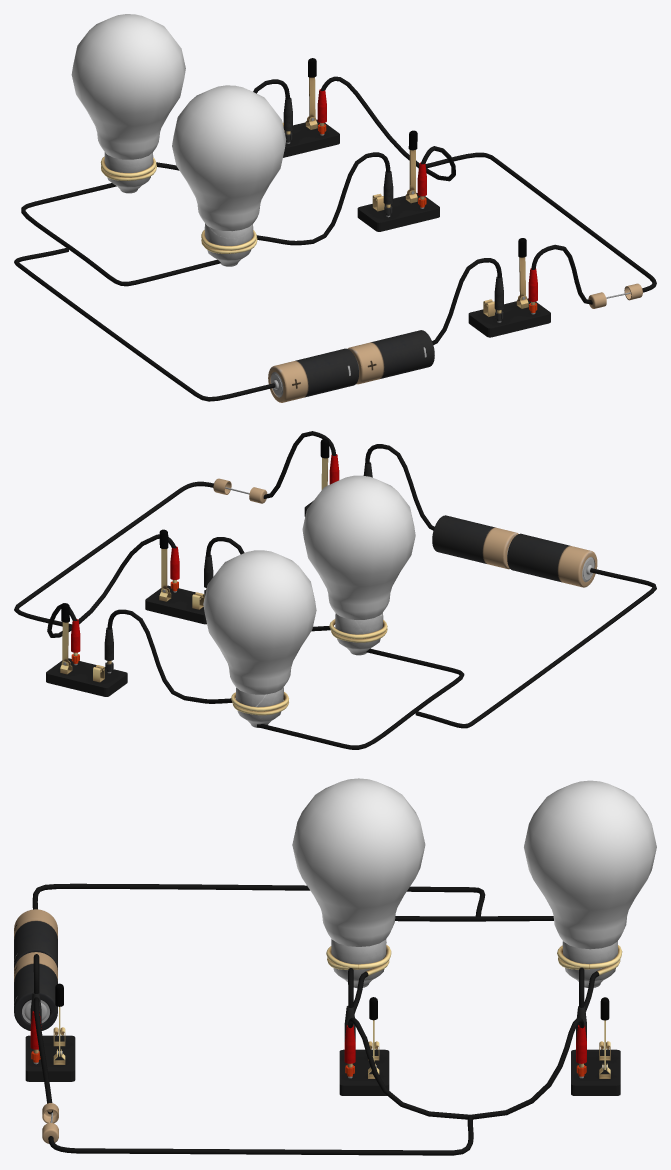
Rendered from Electric circuit fianl animation.fbx.
3 views of the same model, one above another, from view 1: azimuth 30°, elevation 25°; view 2: azimuth 150°, elevation 25°; view 3: azimuth 270°, elevation 25° (orthographic). The views are drawn at different scales.
Visible parts, largest first — view 1: Lampada_Low.003, Lampada_Low.002, BezierCurve.001, Cylinder.007, Cylinder.014, Cube, Cube.002, Cube.001, Lampada_Low, Lampada_Low.001; view 2: Lampada_Low.003, Lampada_Low.002, BezierCurve.001, Cylinder.007, Cylinder.014, Cube.001, Cube, Lampada_Low, Lampada_Low.001, Cylinder.012; view 3: Lampada_Low.002, Lampada_Low.003, BezierCurve.001, Cylinder.014, Cube.001, Cylinder.007, Cube, Cube.002, Lampada_Low, Lampada_Low.001, Cylinder.012.
Boxes of the visible parts, x1,y1,x2,y2 form: Lampada_Low.003: [71, 14, 185, 159]; Lampada_Low.002: [172, 85, 286, 231]; BezierCurve.001: [14, 76, 656, 401]; Cylinder.007: [268, 348, 358, 402]; Cylinder.014: [347, 330, 434, 384]; Cube: [357, 193, 439, 231]; Cube.002: [468, 298, 550, 337]; Cube.001: [283, 119, 339, 157]; Lampada_Low: [204, 223, 253, 266]; Lampada_Low.001: [104, 152, 153, 193]; Lampada_Low.003: [203, 550, 316, 694]; Lampada_Low.002: [302, 475, 415, 619]; BezierCurve.001: [14, 431, 656, 749]; Cylinder.007: [507, 533, 597, 587]; Cylinder.014: [432, 515, 518, 569]; Cube.001: [46, 658, 127, 696]; Cube: [145, 585, 206, 624]; Lampada_Low: [335, 612, 383, 655]; Lampada_Low.001: [236, 687, 283, 727]; Cylinder.012: [213, 478, 267, 503]; Lampada_Low.002: [292, 778, 425, 946]; Lampada_Low.003: [524, 780, 656, 949]; BezierCurve.001: [32, 883, 622, 1155]; Cylinder.014: [14, 952, 57, 1030]; Cube.001: [571, 1049, 620, 1095]; Cylinder.007: [14, 909, 57, 970]; Cube: [339, 1049, 389, 1095]; Cube.002: [25, 1035, 75, 1081]; Lampada_Low: [331, 939, 386, 988]; Lampada_Low.001: [562, 941, 617, 987]; Cylinder.012: [42, 1103, 58, 1143].
Size of the model in its own units: 358 by 135 by 366.
